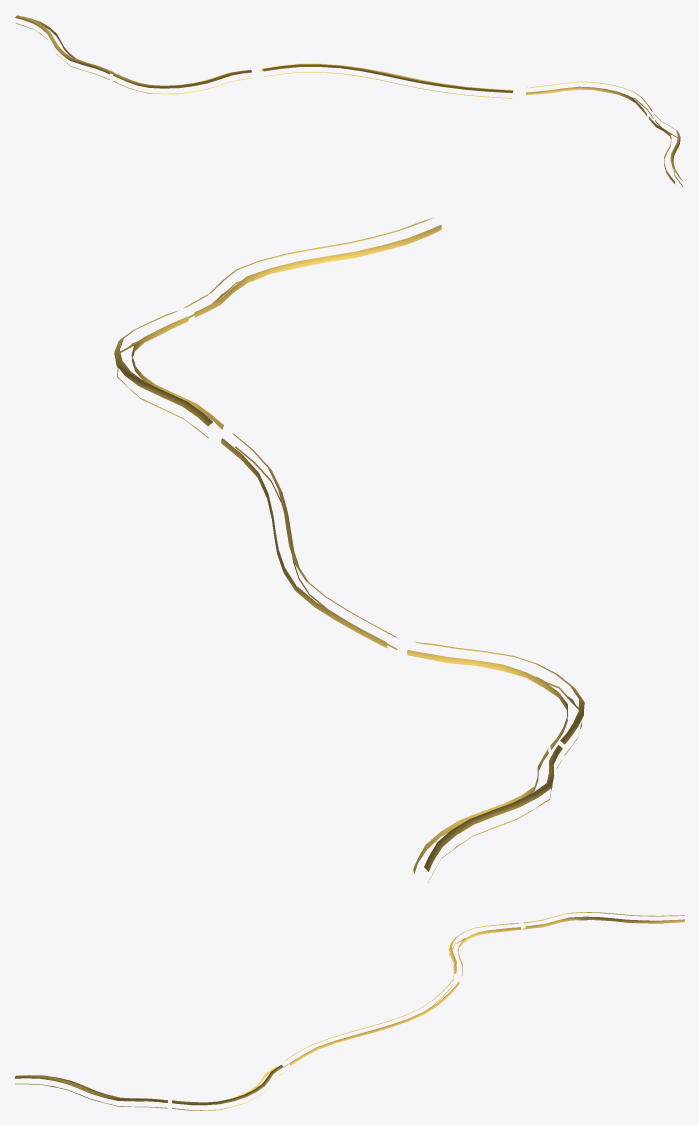
The model's file is right_turret_cables.glb.
The picture shows the model from 3 angles, top to bottom: view 1: azimuth 30°, elevation 25°; view 2: azimuth 150°, elevation 25°; view 3: azimuth 270°, elevation 25°; orthographic projection. The views are drawn at different scales.
Visible parts, largest first — view 1: right_turret_cables_0; view 2: right_turret_cables_0; view 3: right_turret_cables_0.
Part boxes in pixels (x1,y1,x2,y2): right_turret_cables_0: (15, 15, 683, 186); right_turret_cables_0: (114, 218, 584, 882); right_turret_cables_0: (14, 912, 684, 1110).
Bounding box in the file's own units: 176 × 5.04 × 260.
Materials: 1 (1 with a texture image).
